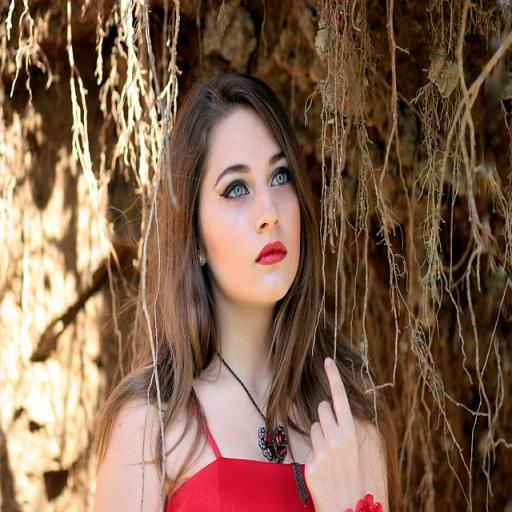lipstick: (256, 242, 287, 264)
